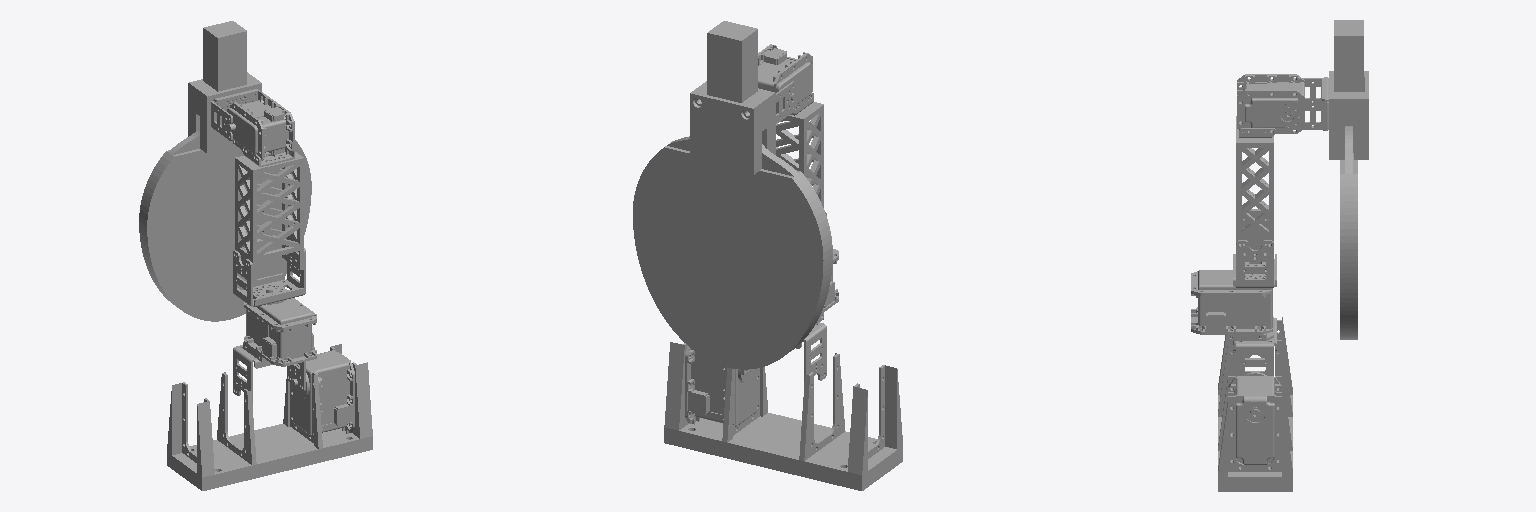
robot.urdf — urdf-test:
<?xml version="1.0" ?>
<!-- =================================================================================== -->
<!-- |    This document was autogenerated by xacro from urdf/urdf-test.xacro           | -->
<!-- |    EDITING THIS FILE BY HAND IS NOT RECOMMENDED                                 | -->
<!-- =================================================================================== -->
<robot name="urdf-test">
  <material name="silver">
    <color rgba="0.700 0.700 0.700 1.000"/>
  </material>
  <transmission name="Revolute 6_tran">
    <type>transmission_interface/SimpleTransmission</type>
    <joint name="Revolute 6">
      <hardwareInterface>hardware_interface/EffortJointInterface</hardwareInterface>
    </joint>
    <actuator name="Revolute 6_actr">
      <hardwareInterface>hardware_interface/EffortJointInterface</hardwareInterface>
      <mechanicalReduction>1</mechanicalReduction>
    </actuator>
  </transmission>
  <transmission name="Revolute 9_tran">
    <type>transmission_interface/SimpleTransmission</type>
    <joint name="Revolute 9">
      <hardwareInterface>hardware_interface/EffortJointInterface</hardwareInterface>
    </joint>
    <actuator name="Revolute 9_actr">
      <hardwareInterface>hardware_interface/EffortJointInterface</hardwareInterface>
      <mechanicalReduction>1</mechanicalReduction>
    </actuator>
  </transmission>
  <transmission name="Revolute 13_tran">
    <type>transmission_interface/SimpleTransmission</type>
    <joint name="Revolute 13">
      <hardwareInterface>hardware_interface/EffortJointInterface</hardwareInterface>
    </joint>
    <actuator name="Revolute 13_actr">
      <hardwareInterface>hardware_interface/EffortJointInterface</hardwareInterface>
      <mechanicalReduction>1</mechanicalReduction>
    </actuator>
  </transmission>
  <gazebo>
    <plugin filename="libgazebo_ros_control.so" name="control"/>
  </gazebo>
  <gazebo reference="base_link">
    <material>Gazebo/Silver</material>
    <mu1>0.2</mu1>
    <mu2>0.2</mu2>
    <selfCollide>true</selfCollide>
    <gravity>true</gravity>
  </gazebo>
  <gazebo reference="MX-64R_v1_1">
    <material>Gazebo/Silver</material>
    <mu1>0.2</mu1>
    <mu2>0.2</mu2>
    <selfCollide>true</selfCollide>
  </gazebo>
  <gazebo reference="MX-64R_v1__1__1">
    <material>Gazebo/Silver</material>
    <mu1>0.2</mu1>
    <mu2>0.2</mu2>
    <selfCollide>true</selfCollide>
  </gazebo>
  <gazebo reference="FR05-H101_v1_1">
    <material>Gazebo/Silver</material>
    <mu1>0.2</mu1>
    <mu2>0.2</mu2>
    <selfCollide>true</selfCollide>
  </gazebo>
  <gazebo reference="FR05-B101_v1_1">
    <material>Gazebo/Silver</material>
    <mu1>0.2</mu1>
    <mu2>0.2</mu2>
    <selfCollide>true</selfCollide>
  </gazebo>
  <gazebo reference="MX-64R_v1__2__1">
    <material>Gazebo/Silver</material>
    <mu1>0.2</mu1>
    <mu2>0.2</mu2>
    <selfCollide>true</selfCollide>
  </gazebo>
  <gazebo reference="FR05-H101_v1__1__1">
    <material>Gazebo/Silver</material>
    <mu1>0.2</mu1>
    <mu2>0.2</mu2>
    <selfCollide>true</selfCollide>
  </gazebo>
  <gazebo reference="arm_v9_1">
    <material>Gazebo/Silver</material>
    <mu1>0.2</mu1>
    <mu2>0.2</mu2>
    <selfCollide>true</selfCollide>
  </gazebo>
  <gazebo reference="FR07-S101_v1_1">
    <material>Gazebo/Silver</material>
    <mu1>0.2</mu1>
    <mu2>0.2</mu2>
    <selfCollide>true</selfCollide>
  </gazebo>
  <gazebo reference="MX-28T_R_v1_1">
    <material>Gazebo/Silver</material>
    <mu1>0.2</mu1>
    <mu2>0.2</mu2>
    <selfCollide>true</selfCollide>
  </gazebo>
  <gazebo reference="FR07-H101_v1_1">
    <material>Gazebo/Silver</material>
    <mu1>0.2</mu1>
    <mu2>0.2</mu2>
    <selfCollide>true</selfCollide>
  </gazebo>
  <gazebo reference="racket_joint_v8_1">
    <material>Gazebo/Silver</material>
    <mu1>0.2</mu1>
    <mu2>0.2</mu2>
    <selfCollide>true</selfCollide>
  </gazebo>
  <gazebo reference="pingpong_paddle_v5_1">
    <material>Gazebo/Silver</material>
    <mu1>0.2</mu1>
    <mu2>0.2</mu2>
    <selfCollide>true</selfCollide>
  </gazebo>
  <link name="base_link">
    <inertial>
      <origin rpy="0 0 0" xyz="-3.560396140936115e-16 0.028006242375980938 0.00880402972235217"/>
      <mass value="2.0549313735510704"/>
      <inertia ixx="0.000748" ixy="-0.0" ixz="0.0" iyy="0.005259" iyz="-0.0" izz="0.005634"/>
    </inertial>
    <visual>
      <origin rpy="0 0 0" xyz="0 0 0"/>
      <geometry>
        <mesh filename="package://urdf-test_description/meshes/base_link.stl" scale="0.001 0.001 0.001"/>
      </geometry>
      <material name="silver"/>
    </visual>
    <collision>
      <origin rpy="0 0 0" xyz="0 0 0"/>
      <geometry>
        <mesh filename="package://urdf-test_description/meshes/base_link.stl" scale="0.001 0.001 0.001"/>
      </geometry>
    </collision>
  </link>
  <link name="MX-64R_v1_1">
    <inertial>
      <origin rpy="0 0 0" xyz="0.017451641868345052 0.011000000017253497 0.030092246470602525"/>
      <mass value="0.5685307980275295"/>
      <inertia ixx="0.000196" ixy="0.0" ixz="-7e-06" iyy="0.000234" iyz="0.0" izz="0.000133"/>
    </inertial>
    <visual>
      <origin rpy="0 0 0" xyz="0.06625 -0.017 -0.0148"/>
      <geometry>
        <mesh filename="package://urdf-test_description/meshes/MX-64R_v1_1.stl" scale="0.001 0.001 0.001"/>
      </geometry>
      <material name="silver"/>
    </visual>
    <collision>
      <origin rpy="0 0 0" xyz="0.06625 -0.017 -0.0148"/>
      <geometry>
        <mesh filename="package://urdf-test_description/meshes/MX-64R_v1_1.stl" scale="0.001 0.001 0.001"/>
      </geometry>
    </collision>
  </link>
  <link name="MX-64R_v1__1__1">
    <inertial>
      <origin rpy="0 0 0" xyz="-0.017451641868345052 0.010999999982746273 0.030092246470602525"/>
      <mass value="0.5685307980275295"/>
      <inertia ixx="0.000196" ixy="0.0" ixz="7e-06" iyy="0.000234" iyz="-0.0" izz="0.000133"/>
    </inertial>
    <visual>
      <origin rpy="0 0 0" xyz="-0.06625 -0.017 -0.0148"/>
      <geometry>
        <mesh filename="package://urdf-test_description/meshes/MX-64R_v1__1__1.stl" scale="0.001 0.001 0.001"/>
      </geometry>
      <material name="silver"/>
    </visual>
    <collision>
      <origin rpy="0 0 0" xyz="-0.06625 -0.017 -0.0148"/>
      <geometry>
        <mesh filename="package://urdf-test_description/meshes/MX-64R_v1__1__1.stl" scale="0.001 0.001 0.001"/>
      </geometry>
    </collision>
  </link>
  <link name="FR05-H101_v1_1">
    <inertial>
      <origin rpy="0 0 0" xyz="0.02550000000002023 -1.1796119636642288e-16 0.0256313146478562"/>
      <mass value="0.05198831685263556"/>
      <inertia ixx="1.3e-05" ixy="0.0" ixz="-0.0" iyy="2.7e-05" iyz="0.0" izz="2.6e-05"/>
    </inertial>
    <visual>
      <origin rpy="0 0 0" xyz="0.02575 -0.028 -0.0601"/>
      <geometry>
        <mesh filename="package://urdf-test_description/meshes/FR05-H101_v1_1.stl" scale="0.001 0.001 0.001"/>
      </geometry>
      <material name="silver"/>
    </visual>
    <collision>
      <origin rpy="0 0 0" xyz="0.02575 -0.028 -0.0601"/>
      <geometry>
        <mesh filename="package://urdf-test_description/meshes/FR05-H101_v1_1.stl" scale="0.001 0.001 0.001"/>
      </geometry>
    </collision>
  </link>
  <link name="FR05-B101_v1_1">
    <inertial>
      <origin rpy="0 0 0" xyz="-4.5090504680739274e-14 -0.0029557693246398953 0.0016902214716354585"/>
      <mass value="0.01879497598985593"/>
      <inertia ixx="2e-06" ixy="0.0" ixz="-0.0" iyy="4e-06" iyz="0.0" izz="5e-06"/>
    </inertial>
    <visual>
      <origin rpy="0 0 0" xyz="0.00025 -0.028 -0.0961"/>
      <geometry>
        <mesh filename="package://urdf-test_description/meshes/FR05-B101_v1_1.stl" scale="0.001 0.001 0.001"/>
      </geometry>
      <material name="silver"/>
    </visual>
    <collision>
      <origin rpy="0 0 0" xyz="0.00025 -0.028 -0.0961"/>
      <geometry>
        <mesh filename="package://urdf-test_description/meshes/FR05-B101_v1_1.stl" scale="0.001 0.001 0.001"/>
      </geometry>
    </collision>
  </link>
  <link name="MX-64R_v1__2__1">
    <inertial>
      <origin rpy="0 0 0" xyz="0.017300000017253542 -0.01920775352939752 0.01745164186834508"/>
      <mass value="0.5685307980275295"/>
      <inertia ixx="0.000234" ixy="0.0" ixz="0.0" iyy="0.000133" iyz="-7e-06" izz="0.000196"/>
    </inertial>
    <visual>
      <origin rpy="0 0 0" xyz="0.01755 -0.032 -0.102"/>
      <geometry>
        <mesh filename="package://urdf-test_description/meshes/MX-64R_v1__2__1.stl" scale="0.001 0.001 0.001"/>
      </geometry>
      <material name="silver"/>
    </visual>
    <collision>
      <origin rpy="0 0 0" xyz="0.01755 -0.032 -0.102"/>
      <geometry>
        <mesh filename="package://urdf-test_description/meshes/MX-64R_v1__2__1.stl" scale="0.001 0.001 0.001"/>
      </geometry>
    </collision>
  </link>
  <link name="FR05-H101_v1__1__1">
    <inertial>
      <origin rpy="0 0 0" xyz="2.020833587274007e-14 -5.204170427930421e-17 0.010168685352143852"/>
      <mass value="0.05198831685263556"/>
      <inertia ixx="1.3e-05" ixy="-0.0" ixz="0.0" iyy="2.7e-05" iyz="-0.0" izz="2.6e-05"/>
    </inertial>
    <visual>
      <origin rpy="0 0 0" xyz="0.00025 -0.028 -0.1425"/>
      <geometry>
        <mesh filename="package://urdf-test_description/meshes/FR05-H101_v1__1__1.stl" scale="0.001 0.001 0.001"/>
      </geometry>
      <material name="silver"/>
    </visual>
    <collision>
      <origin rpy="0 0 0" xyz="0.00025 -0.028 -0.1425"/>
      <geometry>
        <mesh filename="package://urdf-test_description/meshes/FR05-H101_v1__1__1.stl" scale="0.001 0.001 0.001"/>
      </geometry>
    </collision>
  </link>
  <link name="arm_v9_1">
    <inertial>
      <origin rpy="0 0 0" xyz="0.023622827704613995 1.9477470476959857e-05 0.05189568925169269"/>
      <mass value="0.24310181617070015"/>
      <inertia ixx="0.00024" ixy="0.0" ixz="1e-06" iyy="0.000289" iyz="0.0" izz="9.7e-05"/>
    </inertial>
    <visual>
      <origin rpy="0 0 0" xyz="0.02375 -0.028 -0.1673"/>
      <geometry>
        <mesh filename="package://urdf-test_description/meshes/arm_v9_1.stl" scale="0.001 0.001 0.001"/>
      </geometry>
      <material name="silver"/>
    </visual>
    <collision>
      <origin rpy="0 0 0" xyz="0.02375 -0.028 -0.1673"/>
      <geometry>
        <mesh filename="package://urdf-test_description/meshes/arm_v9_1.stl" scale="0.001 0.001 0.001"/>
      </geometry>
    </collision>
  </link>
  <link name="FR07-S101_v1_1">
    <inertial>
      <origin rpy="0 0 0" xyz="-2.0864007136550677e-14 0.008467333868896386 0.0022145067919868144"/>
      <mass value="0.011446844551351427"/>
      <inertia ixx="1e-06" ixy="0.0" ixz="-0.0" iyy="2e-06" iyz="-0.0" izz="2e-06"/>
    </inertial>
    <visual>
      <origin rpy="0 0 0" xyz="0.00025 -0.02 -0.2613"/>
      <geometry>
        <mesh filename="package://urdf-test_description/meshes/FR07-S101_v1_1.stl" scale="0.001 0.001 0.001"/>
      </geometry>
      <material name="silver"/>
    </visual>
    <collision>
      <origin rpy="0 0 0" xyz="0.00025 -0.02 -0.2613"/>
      <geometry>
        <mesh filename="package://urdf-test_description/meshes/FR07-S101_v1_1.stl" scale="0.001 0.001 0.001"/>
      </geometry>
    </collision>
  </link>
  <link name="MX-28T_R_v1_1">
    <inertial>
      <origin rpy="0 0 0" xyz="0.01503184514548616 0.01798447161766962 0.014999999976589684"/>
      <mass value="0.3395854409997755"/>
      <inertia ixx="8.1e-05" ixy="1e-06" ixz="0.0" iyy="5.9e-05" iyz="-0.0" izz="9.6e-05"/>
    </inertial>
    <visual>
      <origin rpy="0 0 0" xyz="0.01525 -0.0235 -0.2673"/>
      <geometry>
        <mesh filename="package://urdf-test_description/meshes/MX-28T_R_v1_1.stl" scale="0.001 0.001 0.001"/>
      </geometry>
      <material name="silver"/>
    </visual>
    <collision>
      <origin rpy="0 0 0" xyz="0.01525 -0.0235 -0.2673"/>
      <geometry>
        <mesh filename="package://urdf-test_description/meshes/MX-28T_R_v1_1.stl" scale="0.001 0.001 0.001"/>
      </geometry>
    </collision>
  </link>
  <link name="FR07-H101_v1_1">
    <inertial>
      <origin rpy="0 0 0" xyz="0.28229663417156636 -0.03161937611413841 0.01800000000006091"/>
      <mass value="0.025998108201265576"/>
      <inertia ixx="4e-06" ixy="-0.0" ixz="0.0" iyy="9e-06" iyz="0.0" izz="1e-05"/>
    </inertial>
    <visual>
      <origin rpy="0 0 0" xyz="0.28255 -0.106 -0.2643"/>
      <geometry>
        <mesh filename="package://urdf-test_description/meshes/FR07-H101_v1_1.stl" scale="0.001 0.001 0.001"/>
      </geometry>
      <material name="silver"/>
    </visual>
    <collision>
      <origin rpy="0 0 0" xyz="0.28255 -0.106 -0.2643"/>
      <geometry>
        <mesh filename="package://urdf-test_description/meshes/FR07-H101_v1_1.stl" scale="0.001 0.001 0.001"/>
      </geometry>
    </collision>
  </link>
  <link name="racket_joint_v8_1">
    <inertial>
      <origin rpy="0 0 0" xyz="0.007777999999993905 0.015011420355173416 -0.0015451576233940223"/>
      <mass value="0.3222277062125535"/>
      <inertia ixx="0.000105" ixy="0.0" ixz="0.0" iyy="0.000164" iyz="0.0" izz="0.000128"/>
    </inertial>
    <visual>
      <origin rpy="0 0 0" xyz="0.008028 -0.083 -0.274522"/>
      <geometry>
        <mesh filename="package://urdf-test_description/meshes/racket_joint_v8_1.stl" scale="0.001 0.001 0.001"/>
      </geometry>
      <material name="silver"/>
    </visual>
    <collision>
      <origin rpy="0 0 0" xyz="0.008028 -0.083 -0.274522"/>
      <geometry>
        <mesh filename="package://urdf-test_description/meshes/racket_joint_v8_1.stl" scale="0.001 0.001 0.001"/>
      </geometry>
    </collision>
  </link>
  <link name="pingpong_paddle_v5_1">
    <inertial>
      <origin rpy="0 0 0" xyz="6.728070791467422e-15 -0.00639999999999992 -0.046816094811443915"/>
      <mass value="2.4030890000623666"/>
      <inertia ixx="0.008861" ixy="-0.0" ixz="-0.0" iyy="0.011682" iyz="0.0" izz="0.002911"/>
    </inertial>
    <visual>
      <origin rpy="0 0 0" xyz="0.00025 -0.1043 -0.2483"/>
      <geometry>
        <mesh filename="package://urdf-test_description/meshes/pingpong_paddle_v5_1.stl" scale="0.001 0.001 0.001"/>
      </geometry>
      <material name="silver"/>
    </visual>
    <collision>
      <origin rpy="0 0 0" xyz="0.00025 -0.1043 -0.2483"/>
      <geometry>
        <mesh filename="package://urdf-test_description/meshes/pingpong_paddle_v5_1.stl" scale="0.001 0.001 0.001"/>
      </geometry>
    </collision>
  </link>
  <joint name="Rigid 4" type="fixed">
    <origin rpy="0 0 0" xyz="-0.06625 0.017 0.0148"/>
    <parent link="base_link"/>
    <child link="MX-64R_v1_1"/>
  </joint>
  <joint name="Rigid 5" type="fixed">
    <origin rpy="0 0 0" xyz="0.06625 0.017 0.0148"/>
    <parent link="base_link"/>
    <child link="MX-64R_v1__1__1"/>
  </joint>
  <joint name="Revolute 6" type="continuous">
    <origin rpy="0 0 0" xyz="0.0405 0.011 0.0453"/>
    <parent link="MX-64R_v1_1"/>
    <child link="FR05-H101_v1_1"/>
    <axis xyz="-1.0 0.0 0.0"/>
  </joint>
  <joint name="Rigid 7" type="fixed">
    <origin rpy="0 0 0" xyz="0.0255 0.0 0.036"/>
    <parent link="FR05-H101_v1_1"/>
    <child link="FR05-B101_v1_1"/>
  </joint>
  <joint name="Rigid 8" type="fixed">
    <origin rpy="0 0 0" xyz="-0.0173 0.004 0.0059"/>
    <parent link="FR05-B101_v1_1"/>
    <child link="MX-64R_v1__2__1"/>
  </joint>
  <joint name="Revolute 9" type="revolute">
    <origin rpy="0 0 0" xyz="0.0173 -0.004 0.0405"/>
    <parent link="MX-64R_v1__2__1"/>
    <child link="FR05-H101_v1__1__1"/>
    <axis xyz="0.0 0.0 -1.0"/>
    <limit effort="100" lower="-0.872665" upper="0.872665" velocity="100"/>
  </joint>
  <joint name="Rigid 10" type="fixed">
    <origin rpy="0 0 0" xyz="-0.0235 0.0 0.0248"/>
    <parent link="FR05-H101_v1__1__1"/>
    <child link="arm_v9_1"/>
  </joint>
  <joint name="Rigid 11" type="fixed">
    <origin rpy="0 0 0" xyz="0.0235 -0.008 0.094"/>
    <parent link="arm_v9_1"/>
    <child link="FR07-S101_v1_1"/>
  </joint>
  <joint name="Rigid 12" type="fixed">
    <origin rpy="0 0 0" xyz="-0.015 0.0035 0.006"/>
    <parent link="FR07-S101_v1_1"/>
    <child link="MX-28T_R_v1_1"/>
  </joint>
  <joint name="Revolute 13" type="revolute">
    <origin rpy="0 0 0" xyz="-0.2673 0.0825 -0.003"/>
    <parent link="MX-28T_R_v1_1"/>
    <child link="FR07-H101_v1_1"/>
    <axis xyz="-1.0 -0.0 -0.0"/>
    <limit effort="100" lower="-2.007129" upper="0.523599" velocity="100"/>
  </joint>
  <joint name="Rigid 14" type="fixed">
    <origin rpy="0 0 0" xyz="0.274522 -0.023 0.010222"/>
    <parent link="FR07-H101_v1_1"/>
    <child link="racket_joint_v8_1"/>
  </joint>
  <joint name="Rigid 15" type="fixed">
    <origin rpy="0 0 0" xyz="0.007778 0.0213 -0.026222"/>
    <parent link="racket_joint_v8_1"/>
    <child link="pingpong_paddle_v5_1"/>
  </joint>
</robot>

--- Render facts (derived) ---
3 views of the same robot in one strip: view 1: azimuth 30°, elevation 25°; view 2: azimuth 150°, elevation 25°; view 3: azimuth 270°, elevation 25° (orthographic).
Model urdf-test with 13 links and 12 joints (2 revolute, 1 continuous, 9 fixed), rooted at base_link, posed every joint at zero.
Links seen in each view (by area): view 1: pingpong_paddle_v5_1, base_link, arm_v9_1, MX-64R_v1__1__1, MX-28T_R_v1_1, MX-64R_v1_1, FR05-H101_v1__1__1, racket_joint_v8_1, MX-64R_v1__2__1, FR05-H101_v1_1, FR07-H101_v1_1; view 2: pingpong_paddle_v5_1, base_link, racket_joint_v8_1, MX-64R_v1__1__1, arm_v9_1, MX-28T_R_v1_1, FR05-H101_v1_1, FR07-H101_v1_1; view 3: base_link, pingpong_paddle_v5_1, MX-64R_v1_1, MX-64R_v1__1__1, arm_v9_1, MX-28T_R_v1_1, racket_joint_v8_1, FR05-H101_v1__1__1, FR07-H101_v1_1, FR05-H101_v1_1.
Boxes of the visible links, x1=… form: pingpong_paddle_v5_1: x1=139, y1=21, x2=311, y2=321; base_link: x1=167, y1=344, x2=372, y2=490; arm_v9_1: x1=235, y1=152, x2=303, y2=281; MX-64R_v1__1__1: x1=290, y1=349, x2=354, y2=435; MX-28T_R_v1_1: x1=227, y1=95, x2=294, y2=160; MX-64R_v1_1: x1=244, y1=287, x2=316, y2=365; FR05-H101_v1__1__1: x1=233, y1=248, x2=305, y2=306; racket_joint_v8_1: x1=188, y1=72, x2=261, y2=153; MX-64R_v1__2__1: x1=244, y1=290, x2=316, y2=366; FR05-H101_v1_1: x1=233, y1=345, x2=305, y2=402; FR07-H101_v1_1: x1=211, y1=89, x2=265, y2=140; pingpong_paddle_v5_1: x1=633, y1=21, x2=832, y2=369; base_link: x1=664, y1=342, x2=902, y2=490; racket_joint_v8_1: x1=690, y1=81, x2=775, y2=174; MX-64R_v1__1__1: x1=685, y1=346, x2=759, y2=426; arm_v9_1: x1=776, y1=102, x2=823, y2=207; MX-28T_R_v1_1: x1=758, y1=44, x2=812, y2=121; FR05-H101_v1_1: x1=741, y1=322, x2=826, y2=381; FR07-H101_v1_1: x1=776, y1=81, x2=795, y2=123; base_link: x1=1218, y1=317, x2=1292, y2=491; pingpong_paddle_v5_1: x1=1334, y1=20, x2=1363, y2=339; MX-64R_v1_1: x1=1191, y1=270, x2=1272, y2=334; MX-64R_v1__1__1: x1=1228, y1=372, x2=1281, y2=468; arm_v9_1: x1=1236, y1=116, x2=1273, y2=258; MX-28T_R_v1_1: x1=1237, y1=74, x2=1304, y2=133; racket_joint_v8_1: x1=1329, y1=71, x2=1368, y2=159; FR05-H101_v1__1__1: x1=1233, y1=240, x2=1276, y2=287; FR07-H101_v1_1: x1=1285, y1=77, x2=1328, y2=130; FR05-H101_v1_1: x1=1233, y1=317, x2=1276, y2=375.
Bounding box of the posed robot: 0.1555 × 0.1331 × 0.3449 m (x, y, z).
Meshes: 13 distinct files referenced, 13 mesh visuals loaded (13 binary STL).
